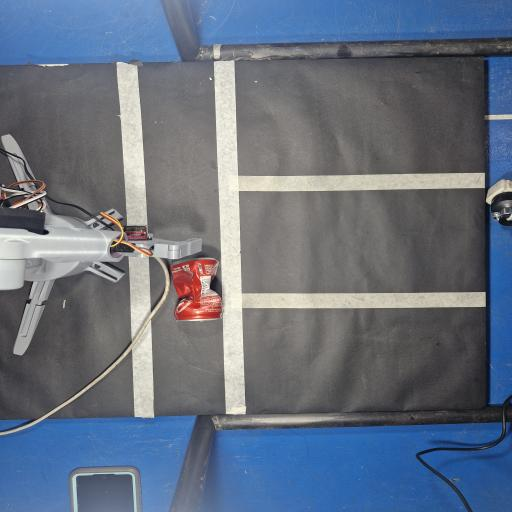lata_defectuoso: (170, 258, 223, 321)
